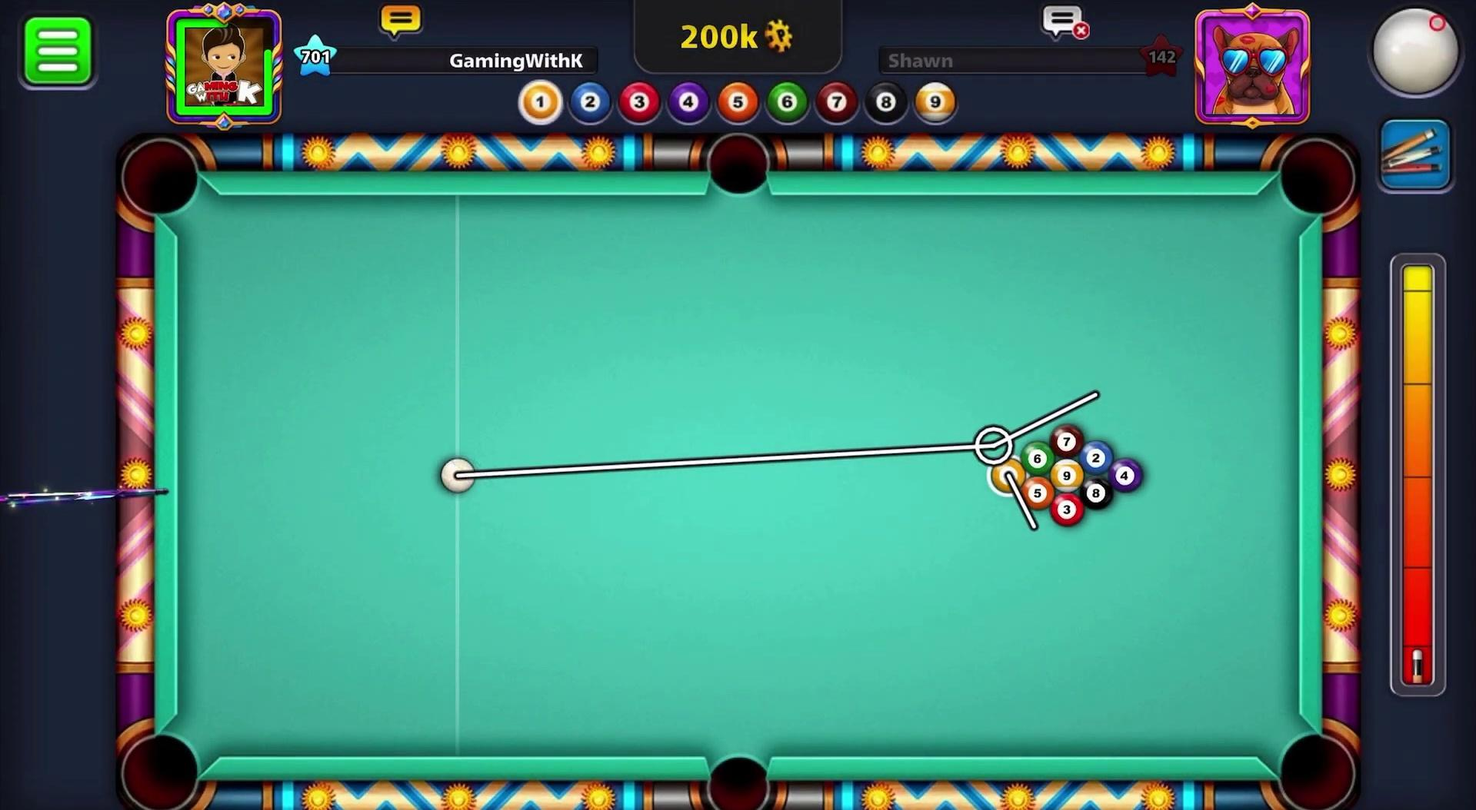Ball: (1047, 421, 1088, 460), (985, 456, 1026, 494), (1046, 491, 1087, 528), (1018, 438, 1057, 476), (1075, 474, 1114, 512), (1077, 437, 1114, 477), (1049, 458, 1085, 497), (1107, 456, 1144, 493), (1019, 473, 1055, 511)
Force: (1387, 248, 1451, 699)
Guideline: (455, 382, 1113, 538)
Hole: (108, 128, 214, 229), (1269, 131, 1365, 230), (1265, 716, 1364, 809), (111, 724, 208, 809), (685, 736, 785, 809), (700, 123, 778, 204)
Play_Area: (178, 194, 1299, 759)
Spin: (1342, 0, 1475, 114)
White: (431, 453, 475, 498)
